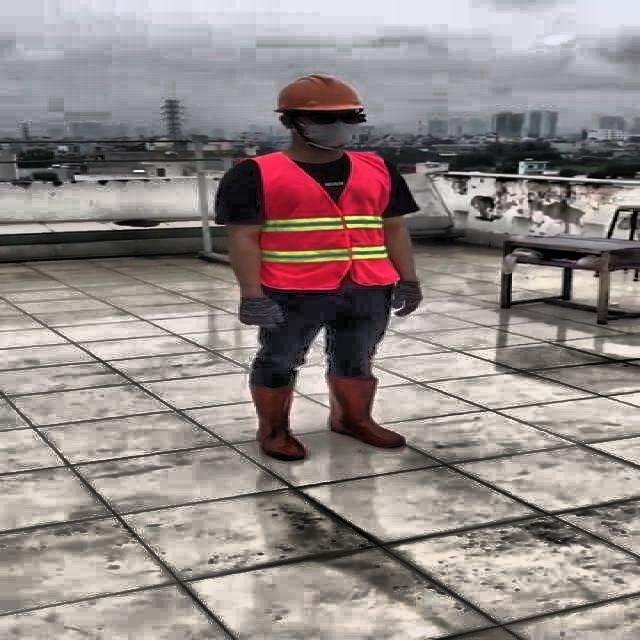safety_helmet: (268, 71, 362, 115)
safety_jacket: (245, 151, 400, 289)
